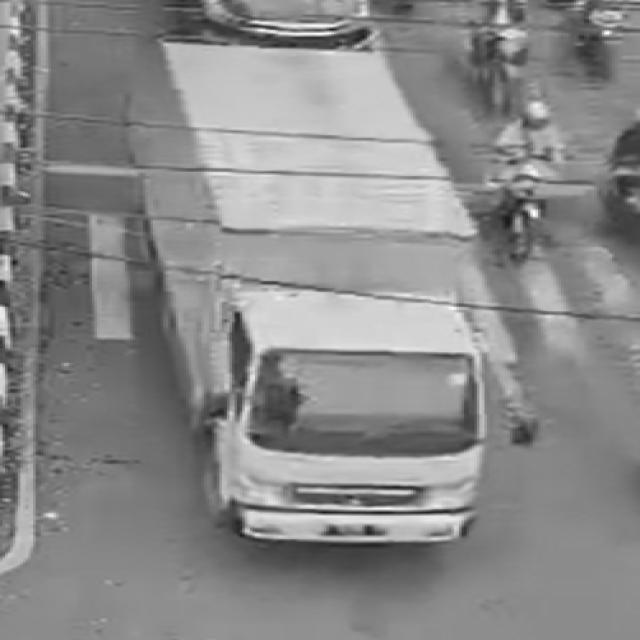Truck: (99, 32, 556, 583)
